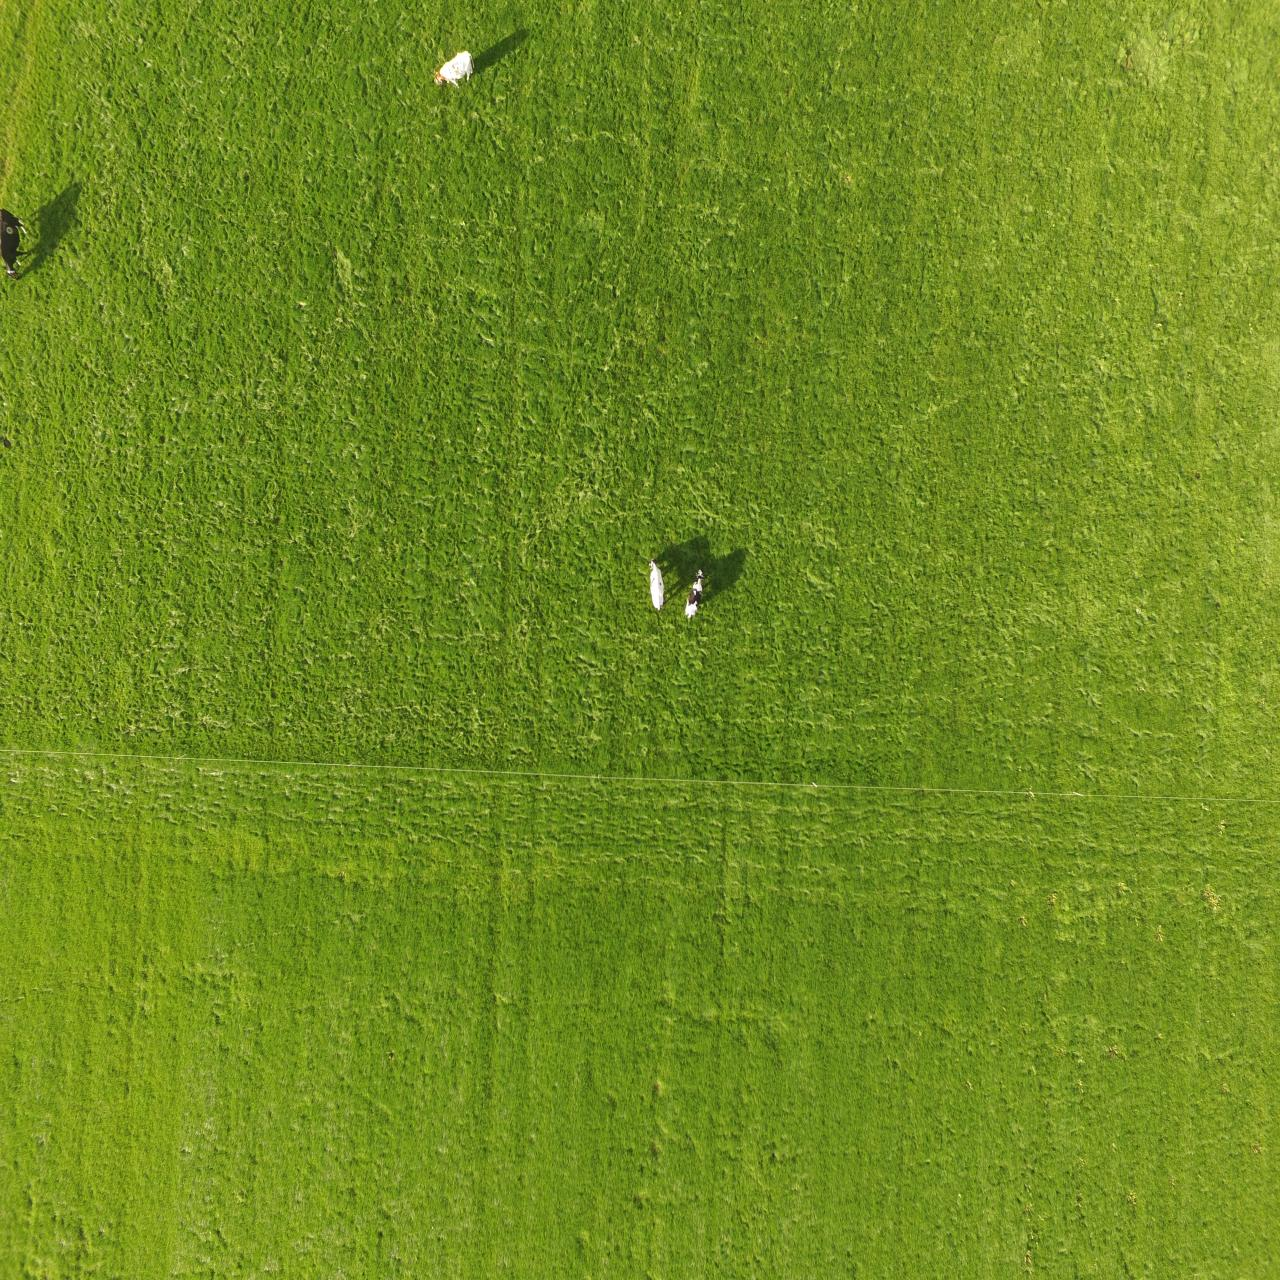cow: (429, 42, 479, 91), (0, 200, 30, 280), (682, 566, 706, 619), (646, 557, 666, 613)
